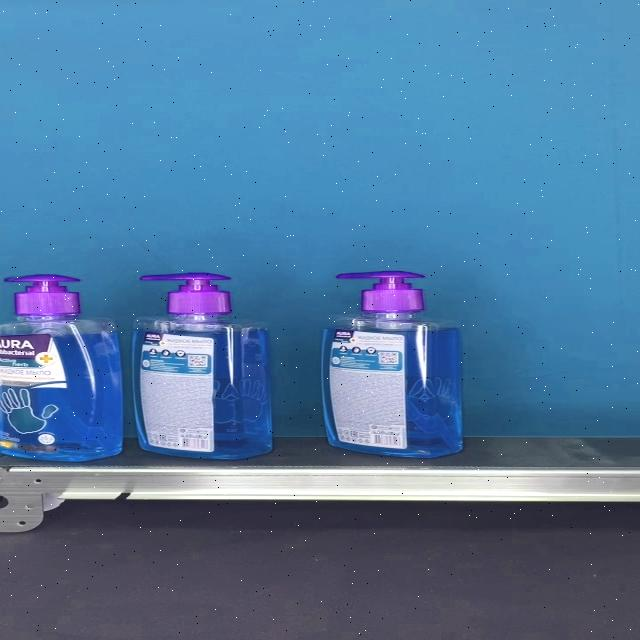Bottle: (320, 271, 462, 458), (132, 272, 272, 460), (0, 273, 122, 461)
Cap: (139, 272, 231, 314), (336, 271, 426, 312), (3, 273, 80, 314)
